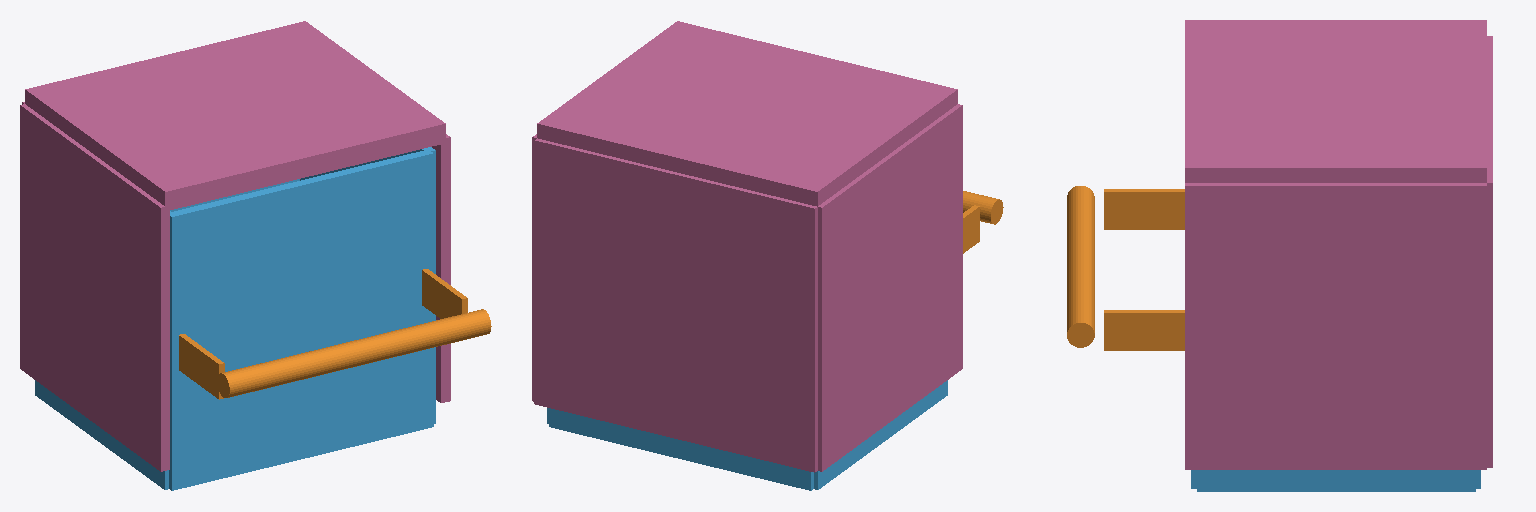
robot.urdf — bowl.urdf:
<?xml version="0.0" ?>
<robot name="bowl.urdf">

  <material name="yellow">
    <color rgba="1 1 0.4 1"/>
  </material>
  <material name="red">
    <color rgba="1 0 0 1"/>
  </material>
  <material name="blue">
    <color rgba=".17 .20 .38 1"/>
  </material>
  <material name="teal">
    <color rgba="0 .5 .5 1"/>
  </material>
  <material name="orange">
    <color rgba=".93 .6 .23 1"/>
  </material>

  <link name="world"/>

  <link name="base">
    <contact>
      <rolling_friction value="10.0"/>
      <lateral_friction value="10.0"/>
      <spinning_friction value="10.0"/>
    </contact>
    <inertial>
      <origin rpy="0 0 0" xyz="0.0 0.0 0.0"/>
       <mass value="0.1"/>
       <inertia ixx="1" ixy="0" ixz="0" iyy="1" iyz="0" izz="1"/>
    </inertial>
    <visual>
      <origin rpy="0 0 0" xyz="0 0 -0.2"/>
      <geometry>
        <box size="1.4 1.2 .1"/>
      </geometry>
    </visual>
    <visual>
      <!-- right -->
      <origin rpy="0 0 0" xyz="0 -.6 0"/>
      <geometry>
        <box size="1.4 .05 1.4"/>
      </geometry>
    </visual>
    <visual>
      <!-- left -->
      <origin rpy="0 0 0" xyz="0 .6 0"/>
      <geometry>
        <box size="1.4 .05 1.4"/>
      </geometry>
    </visual>
    <visual>
      <!-- front -->
      <origin rpy="0 0 0" xyz=".7 0 0"/>
      <geometry>
        <box size=".05 1.2 1.4"/>
      </geometry>
    </visual>
    <visual>
      <!-- back -->
      <origin rpy="0 0 0" xyz="-.7 0 0"/>
      <geometry>
        <box size=".05 1.2 1.4"/>
      </geometry>
    </visual>

    <collision>
      <!--Bottom --> 
      <origin rpy="0 0 0" xyz="0 0 -.2"/>
      <geometry>
        <box size="1.4 1.2 .1"/>
      </geometry>
    </collision>
    <collision>
      <!-- right -->
      <origin rpy="0 0 0" xyz="0 -.6 0"/>
      <geometry>
        <box size="1.4 .05 1.4"/>
      </geometry>
    </collision>
    <collision>
      <!-- left -->
      <origin rpy="0 0 0" xyz="0 .6 0"/>
      <geometry>
        <box size="1.4 .05 1.4"/>
      </geometry>
    </collision>
    <collision>
      <!-- front -->
      <origin rpy="0 0 0" xyz=".7 0 0"/>
      <geometry>
        <box size=".05 1.2 1.4"/>
      </geometry>
    </collision>
    <collision>
      <!-- back -->
      <origin rpy="0 0 0" xyz="-.7 0 0"/>
      <geometry>
        <box size=".05 1.2 1.4"/>
      </geometry>
    </collision>
  </link>

  <link name="tray">
    <contact>
      <lateral_friction value="10.0"/>
      <rolling_friction value="10.0"/>
      <spinning_friction value="10.0"/>
      <contact_cfm value="0.0"/>
      <contact_erp value="1.0"/>
    </contact>
    <inertial>
      <origin rpy="0 0 -3.14" xyz="0 0 -0.15"/>
      <mass value="0"/>
      <inertia ixx="0" ixy="0" ixz="0" iyy="0" iyz="0" izz="0"/>
    </inertial>
    <visual>
      <origin rpy="0 0 -3.14" xyz="0 0 -0.15"/>
      <geometry>
        <mesh filename="../tray/tray_textured4_no_color.obj" scale="1.1 0.95 3.5"/>
      </geometry>
      <material name="tray_material">
        <color rgba="1 1 1 1"/>
      </material>
    </visual>
    <collision>
      <origin rpy="0 0 -3.14" xyz="0 0 -0.15"/>
      <geometry>
        <mesh filename="../tray/tray_textured4_no_color.obj" scale="1.1 0.95 3.5"/>
      </geometry>
    </collision>
  </link>

  <link name="handle_r">
    <contact>
      <rolling_friction value="1000.0"/>
      <lateral_friction value="1000.0"/>
      <!-- lateral_friction was key to not making the gripper slide on the handle--> 
      <spinning_friction value="1000.0"/>
      <contact_cfm value="0.0"/>
      <contact_erp value="1.0"/>
    </contact>
    <inertial>
      <origin rpy="0 1.57 0" xyz="0 0 0"/>
      <mass value=".1"/>
      <inertia ixx="1" ixy="0" ixz="0" iyy="1" iyz="0" izz="1"/>
    </inertial>
    <visual>
      <origin rpy="0 1.57 0" xyz="0 0 0"/>
      <geometry>
        <cylinder radius="0.06" length="1.4"/>
      </geometry>
      <material name="orange"/>
    </visual>
    <collision>
      <origin rpy="0 1.57 0" xyz="0 0 0"/>
      <geometry>
        <cylinder radius="0.06" length="1.4"/>
      </geometry>
    </collision>
  </link>

  <link name="handle_plate_far">
    <contact>
      <rolling_friction value="1000.0"/>
      <lateral_friction value="1000.0"/>
      <spinning_friction value="1000.0"/>
      <contact_cfm value="0.0"/>
      <contact_erp value="1.0"/>
    </contact>
    <inertial>
      <origin rpy="0 1.57 0" xyz="0 0 0"/>
      <mass value=".1"/>
      <inertia ixx="1" ixy="0" ixz="0" iyy="1" iyz="0" izz="1"/>
    </inertial>
    <visual>
      <origin rpy="0 0 0" xyz="0 0 0"/>
      <geometry>
        <box size=".03 .6 .18"/>
      </geometry>
      <material name="orange"/>
    </visual>
    <collision>
      <origin rpy="0 0 0" xyz="0 0 0"/>
      <geometry>
        <box size=".03 .6 .18"/>
      </geometry>
    </collision>
  </link>

  <link name="handle_plate_near">
    <contact>
      <rolling_friction value="1000.0"/>
      <lateral_friction value="1000.0"/>
      <spinning_friction value="1000.0"/>
      <contact_cfm value="0.0"/>
      <contact_erp value="1.0"/>
    </contact>
    <inertial>
      <origin rpy="0 1.57 0" xyz="0 0 0"/>
      <mass value=".1"/>
      <inertia ixx="1" ixy="0" ixz="0" iyy="1" iyz="0" izz="1"/>
    </inertial>
    <visual>
      <origin rpy="0 0 0" xyz="0 0 0"/>
      <geometry>
        <box size=".03 .6 .18"/>
      </geometry>
      <material name="orange"/>
    </visual>
    <collision>
      <origin rpy="0 0 0" xyz="0 0 0"/>
      <geometry>
        <box size=".03 .6 .18"/>
      </geometry>
    </collision>
  </link>

  <link name="frame">
    <contact>
      <lateral_friction value="0.5"/>
      <rolling_friction value="0.0"/>
      <contact_cfm value="0.0"/>
      <contact_erp value="1.0"/>
    </contact>
    <inertial>
      <origin rpy="0 0 0" xyz="0.0 0.0 0.0"/>
       <mass value=".1"/>
       <inertia ixx="1" ixy="0" ixz="0" iyy="1" iyz="0" izz="1"/>
    </inertial>
    <visual>
      <!--Top-->
      <origin rpy="0 0 0" xyz="0 0 .7"/>
      <geometry>
        <box size="1.5 1.3 .1"/>
      </geometry>
    </visual>
    <visual>
      <!--Right-->
      <origin rpy="0 0 0" xyz="0 .65 0"/>
      <geometry>
        <box size="1.5 .05 1.35"/>
      </geometry>
    </visual>
    <visual>
      <!--Front-->
      <origin rpy="0 0 0" xyz=".75 0 0"/>
      <geometry>
        <box size=".05 1.3 1.35"/>
      </geometry>
    </visual>
    <visual>
      <!--Back-->
      <origin rpy="0 0 0" xyz="-.75 0 0"/>
      <geometry>
        <box size=".05 1.3 1.35"/>
      </geometry>
    </visual>

    <collision>
      <!--Top-->
      <origin rpy="0 0 0" xyz="0 0 .7"/>
      <geometry>
        <box size="1.5 1.3 .1"/>
      </geometry>
    </collision>
    <collision>
      <!--Right-->
      <origin rpy="0 0 0" xyz="0 .65 0"/>
      <geometry>
        <box size="1.5 .05 1.35"/>
      </geometry>
    </collision>
    <collision>
      <!--Front-->
      <origin rpy="0 0 0" xyz=".75 0 0"/>
      <geometry>
        <box size=".05 1.3 1.35"/>
      </geometry>
    </collision>
    <collision>
      <!--Back-->
      <origin rpy="0 0 0" xyz="-.75 0 0"/>
      <geometry>
        <box size=".05 1.3 1.35"/>
      </geometry>
    </collision>
  </link>

  <joint name="frame_joint" type="fixed">
    <parent link="world"/>
    <child link="frame"/>
  </joint>

  <joint name="base_frame_joint" type="prismatic">
    <origin rpy="0 0 0" xyz="0 0 -.1"/>
    <parent link="frame"/>
    <child link="base"/>
    <axis rpy="0 0 0" xyz="0 1 0"/>
    <limit effort="100" lower="-1.25" upper="0" velocity="100"/>
    <dynamics damping="0.0" friction=".01"/>
  </joint>

  <joint name="base_tray_joint" type="fixed">
    <origin rpy="0 0 0" xyz="0 0 0"/>
    <parent link="base"/>
    <child link="tray"/>
  </joint>

  <joint name="handle_plate_far_joint" type="fixed">
    <origin rpy="0 0 0" xyz="-0.65 -0.7 0.0"/>
    <parent link="base"/>
    <child link="handle_plate_far"/>
  </joint>

  <joint name="handle_plate_near_joint" type="fixed">
    <origin rpy="0 0 0" xyz="0.65 -0.7 0.03"/>
    <parent link="base"/>
    <child link="handle_plate_near"/>
  </joint>

  <joint name="handle_r_joint" type="fixed">
    <origin rpy="0 0 0" xyz="0 -1.1 0.03"/>
    <parent link="base"/>
    <child link="handle_r"/>
  </joint>

</robot>

--- Render facts (derived) ---
Views: 3 orthographic renders of the robot side by side, from view 1: azimuth 30°, elevation 25°; view 2: azimuth 150°, elevation 25°; view 3: azimuth 270°, elevation 25°.
Robot: bowl.urdf — 7 links, 6 joints (1 prismatic, 5 fixed); root link world; default pose: every joint at zero.
Visible links, largest first — view 1: frame, base, handle_r, handle_plate_far, handle_plate_near; view 2: frame, base, handle_r, handle_plate_far; view 3: frame, base, handle_r, handle_plate_far, handle_plate_near.
Link boxes in pixels (bbox=[...]): frame: bbox=[20, 21, 450, 471]; base: bbox=[35, 147, 435, 490]; handle_r: bbox=[217, 309, 491, 397]; handle_plate_far: bbox=[179, 334, 224, 399]; handle_plate_near: bbox=[422, 269, 467, 318]; frame: bbox=[532, 21, 962, 472]; base: bbox=[547, 380, 947, 490]; handle_r: bbox=[963, 191, 1003, 224]; handle_plate_far: bbox=[963, 205, 979, 253]; frame: bbox=[1185, 20, 1492, 469]; base: bbox=[1191, 470, 1480, 491]; handle_r: bbox=[1067, 186, 1094, 347]; handle_plate_far: bbox=[1104, 189, 1184, 229]; handle_plate_near: bbox=[1104, 310, 1184, 350].
Bounding box of the posed robot: 1.55 × 1.83 × 1.55 m (x, y, z).
Meshes: 1 distinct files referenced, 0 mesh visuals loaded (none loaded); not drawn: 1 (reference not matched to a file when rendering).